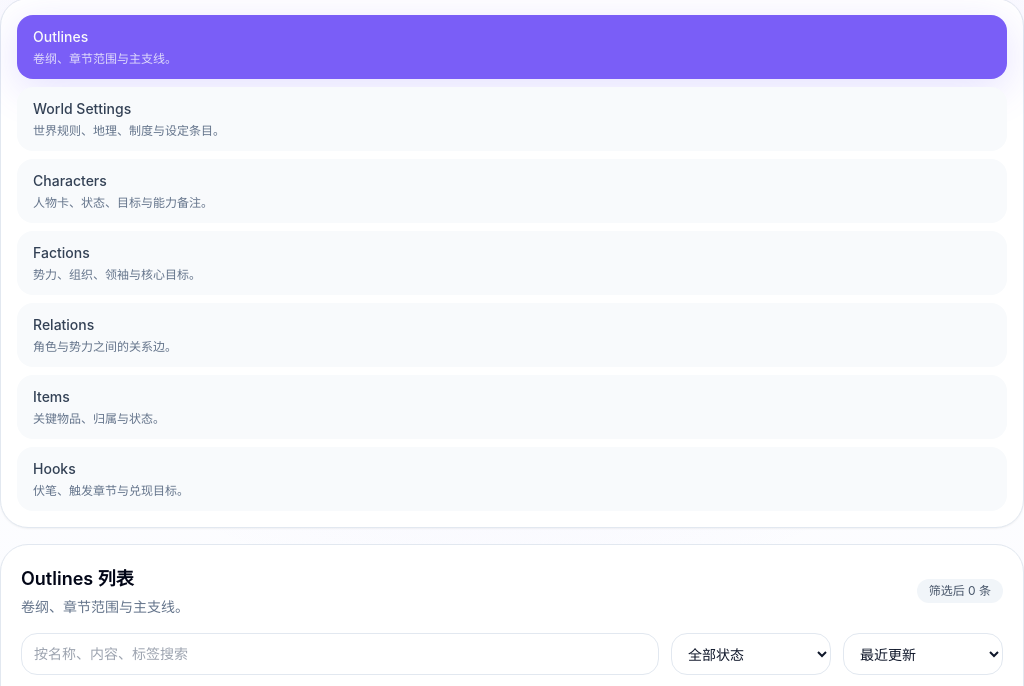
Test: ResourcesPage › shows relation entity names on relation cards
The width and height of the screenshot is (1024, 686).
Click the button "Relations 角色与势力之间的关系边。".
click(64, 324)  # box [17, 303, 1007, 367]
(page scrolled)
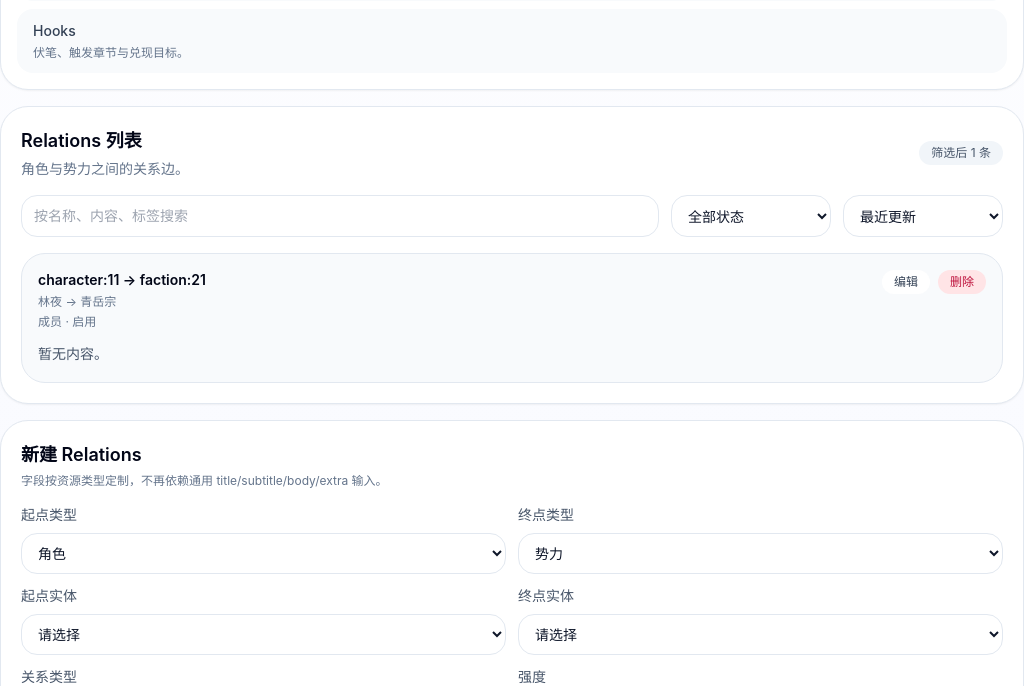
Now the heading "Relations 列表" is shown, box [21, 130, 142, 151]
Now the heading "character:11 → faction:21" is shown, box [38, 270, 206, 290]
Now the text "林夜 → 青岳宗" is shown, box [38, 294, 116, 309]
